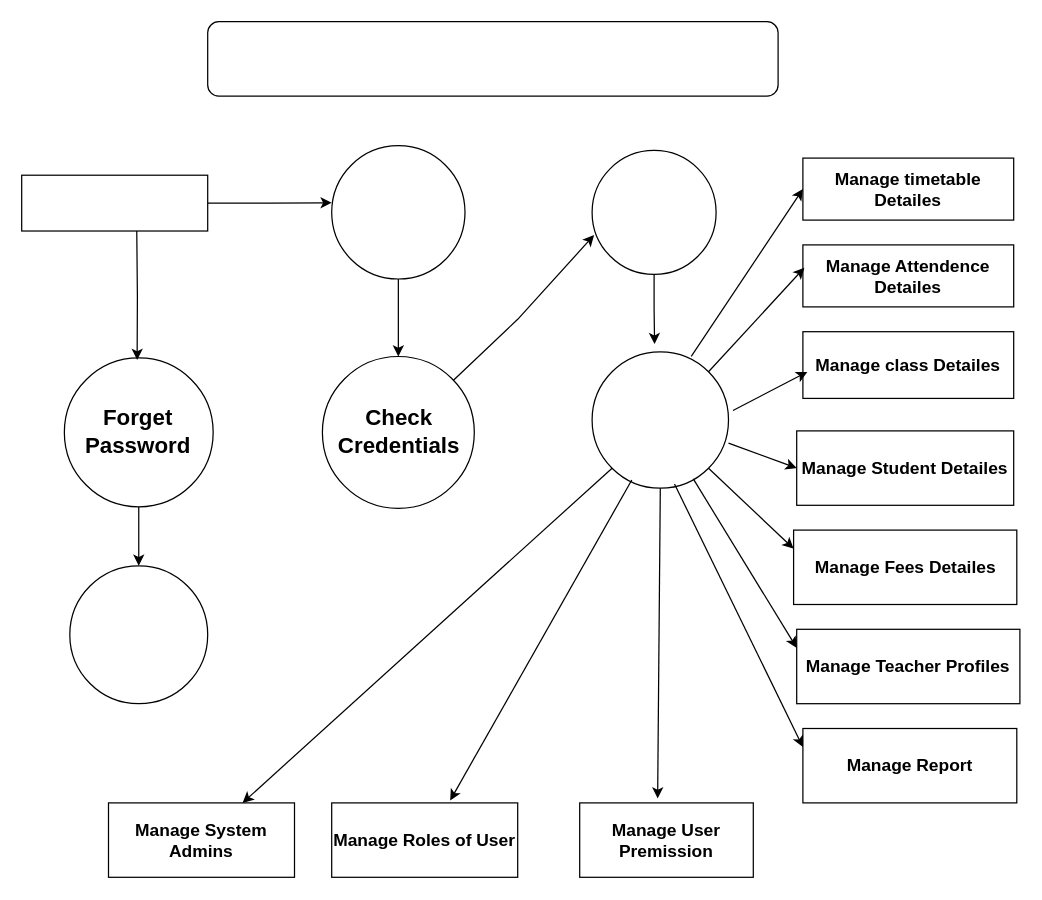
Image size: 1042x900. Some labels were removed from this diagram. The centre of each missing label's shape, as x and y in pixels:
"Admin" belongs at (114,202).
"Check Roles of Access" belongs at (653,211).
"Login to system" belongs at (397,211).
"Manage Modules" belongs at (659,419).
"Send Email to User" belongs at (138,634).
"Student Information System" belongs at (492,58).
